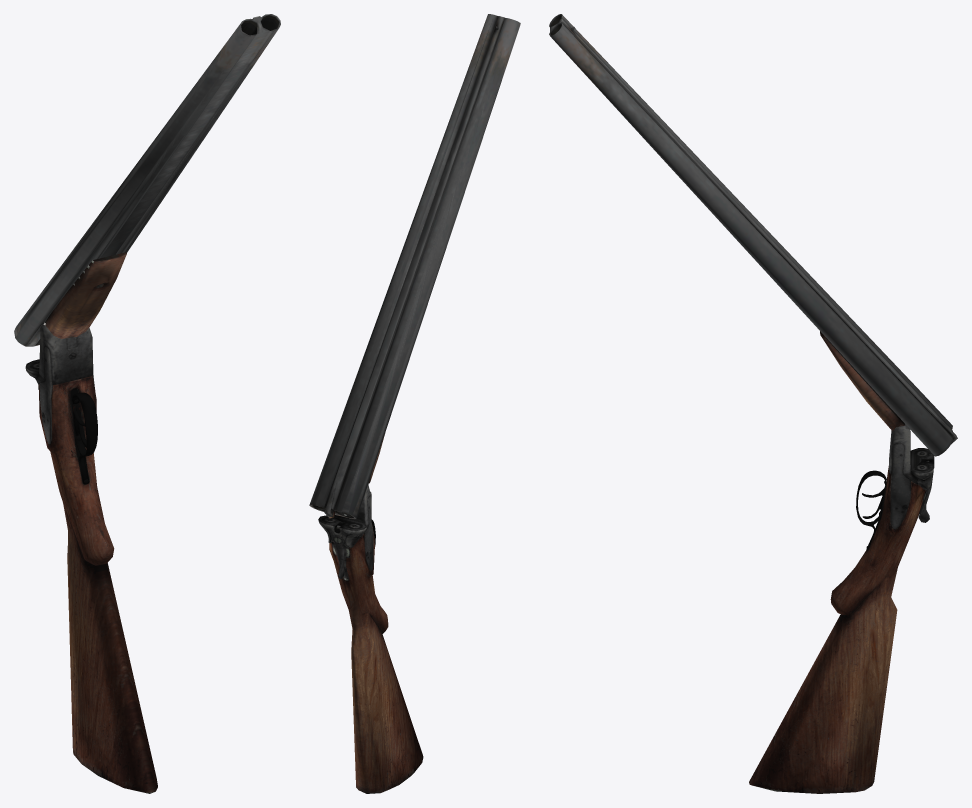
File: DoubleBarrelShotgun_OPEN.fbx
The picture shows the model from 3 angles, left to right: view 1: azimuth 30°, elevation 25°; view 2: azimuth 150°, elevation 25°; view 3: azimuth 270°, elevation 25°; orthographic projection. The views are drawn at different scales.
Parts seen in each view (by area): view 1: DoubleBarrelOpen; view 2: DoubleBarrelOpen; view 3: DoubleBarrelOpen.
Boxes of the visible parts, bbox=[...] form: DoubleBarrelOpen: bbox=[14, 14, 280, 793]; DoubleBarrelOpen: bbox=[309, 14, 520, 793]; DoubleBarrelOpen: bbox=[549, 14, 957, 793].
Size of the model in its own units: 0.0412 by 0.5787 by 0.2797.
